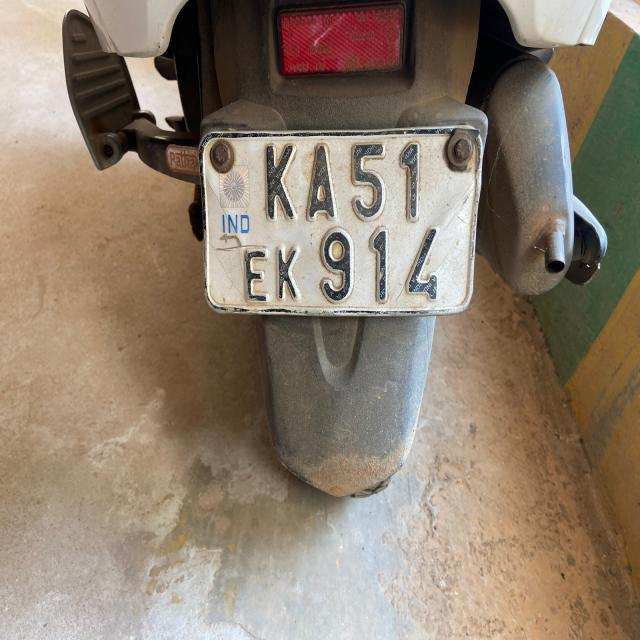1: (366, 223, 399, 309), (396, 136, 424, 228)
4: (404, 223, 449, 304)
5: (350, 140, 392, 227)
9: (318, 224, 355, 308)
A: (303, 134, 341, 228)
E: (238, 240, 272, 308)
K: (260, 138, 299, 230), (274, 238, 302, 304)
